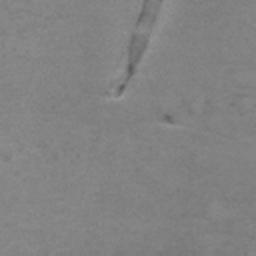Finishing roll printing: (113, 0, 164, 99)
